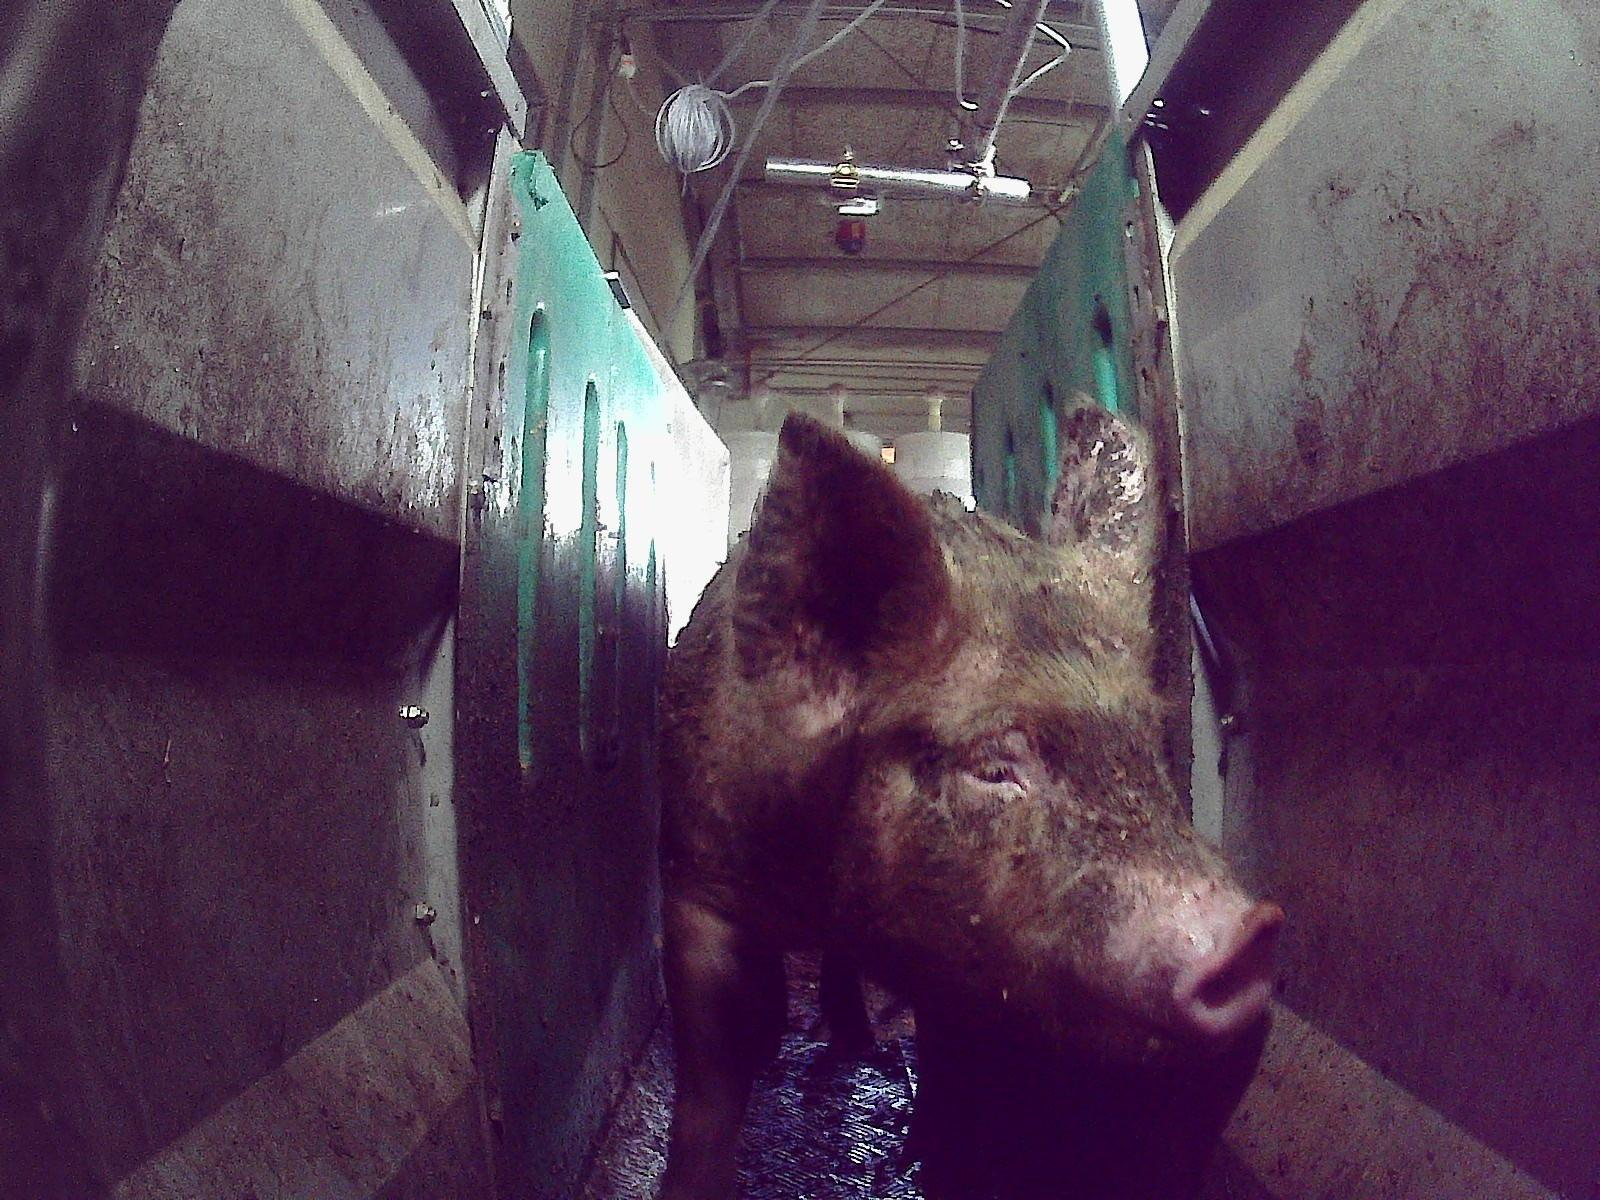Face: (806, 519, 1285, 1065)
